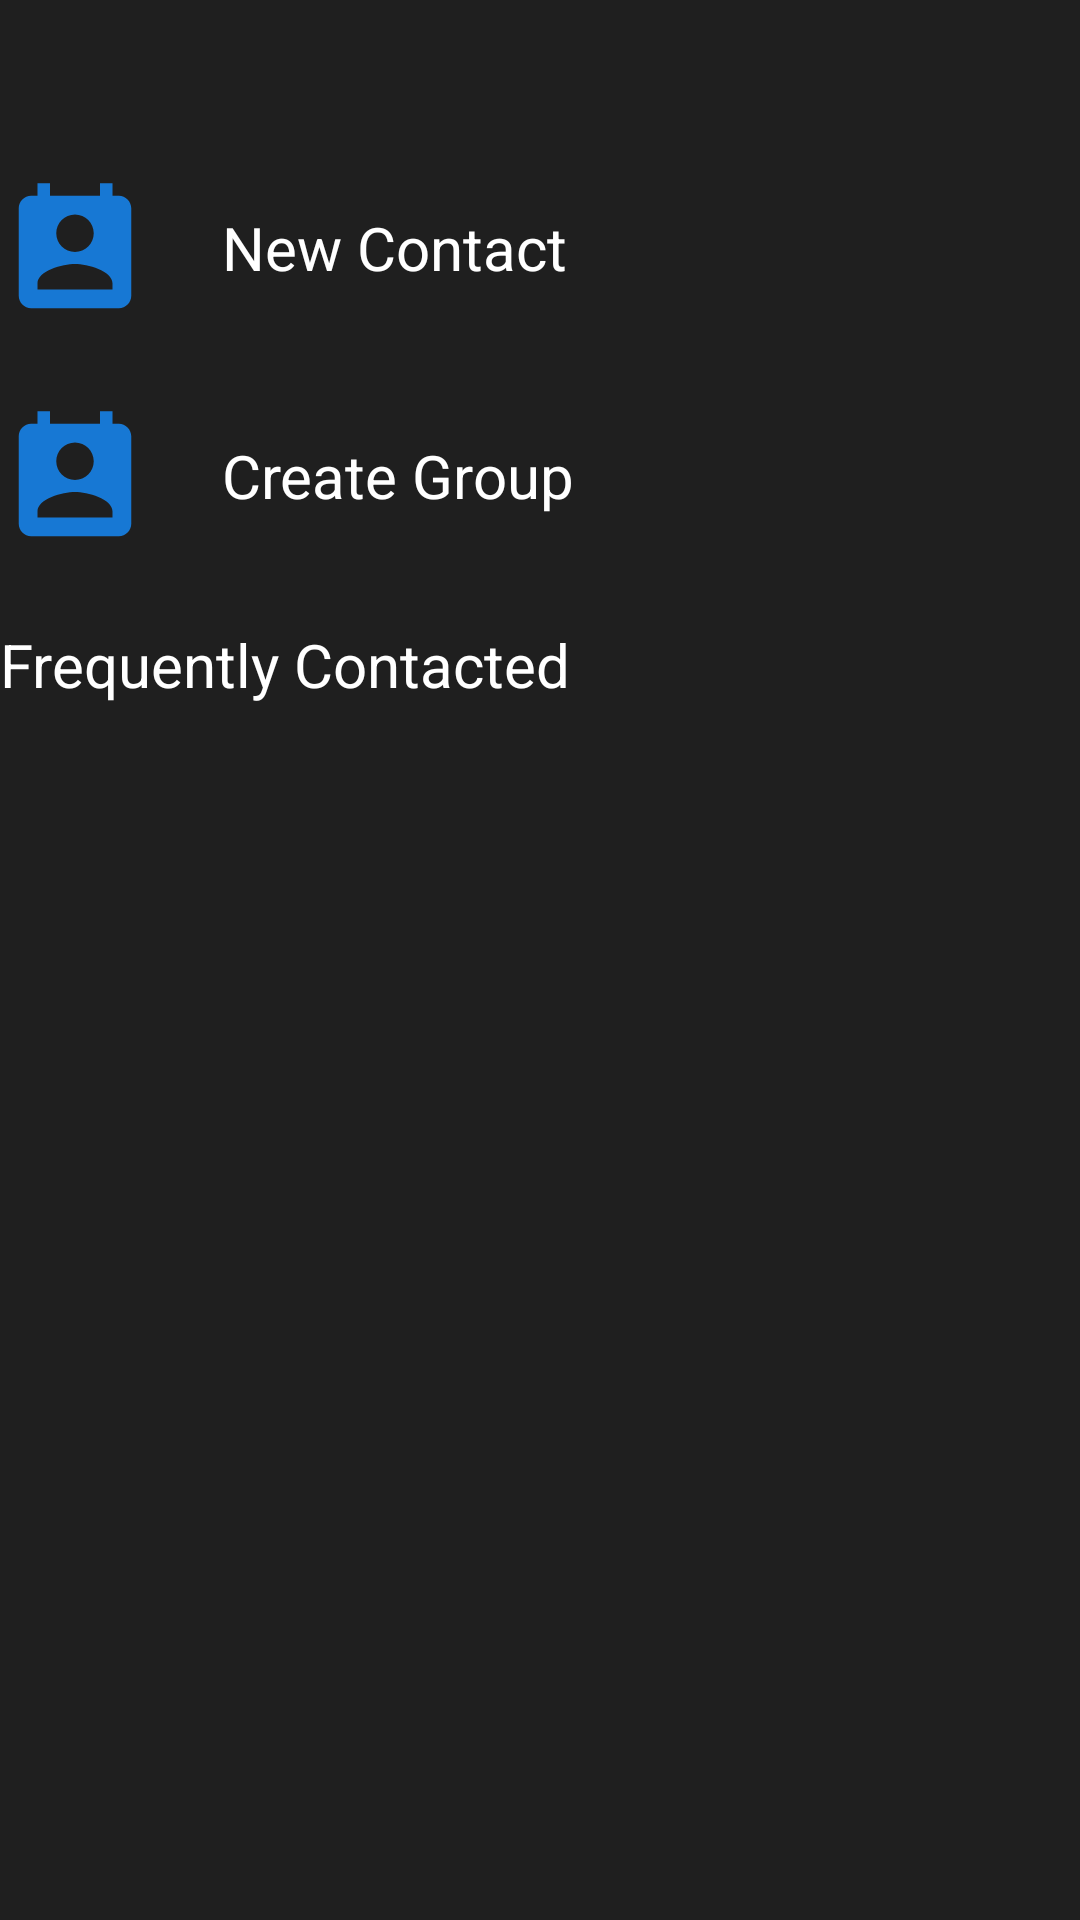

Screen size 1080w x 1920h. Icon name, then its center in pixels as (x,y):
perm contact calendar: (75,246), (75,474)
